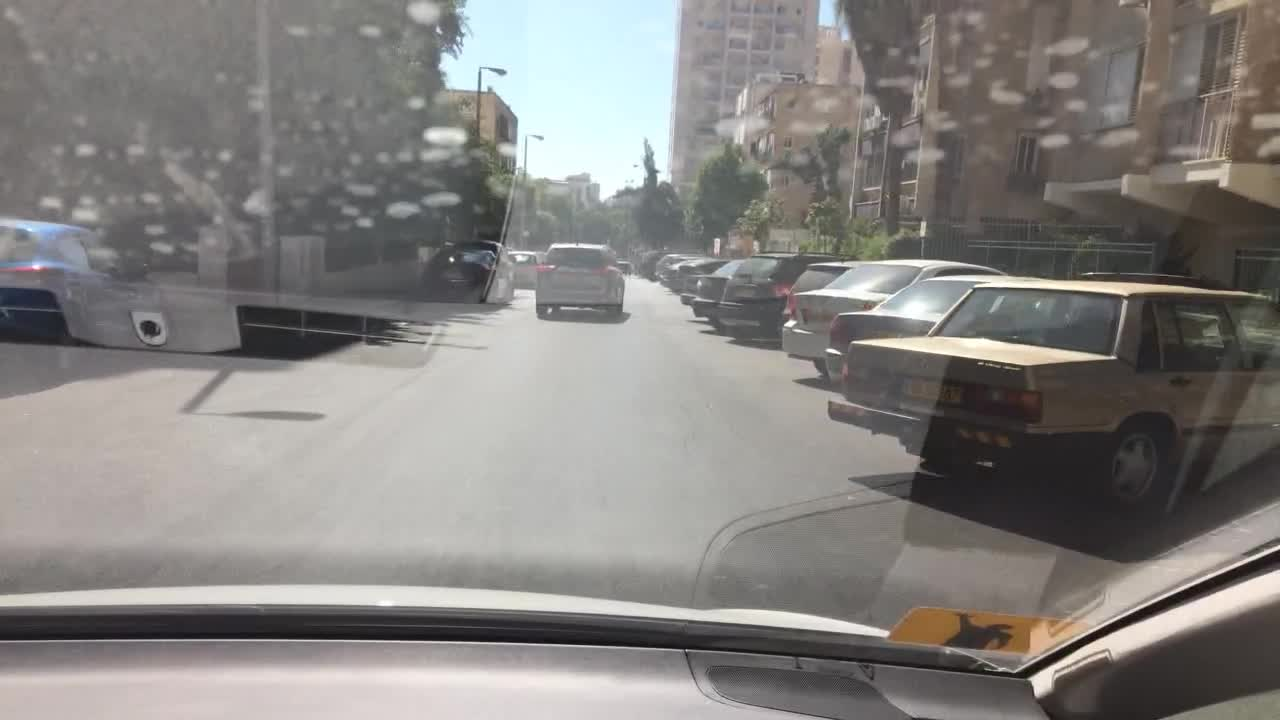car: (825, 275, 1279, 516), (0, 217, 175, 382), (779, 256, 1011, 378), (823, 273, 1034, 388), (712, 253, 859, 341), (773, 258, 869, 334), (535, 239, 624, 317), (417, 246, 498, 305), (459, 233, 518, 297), (690, 256, 746, 320), (678, 261, 734, 305), (666, 256, 719, 293), (651, 251, 695, 285), (504, 250, 540, 288), (633, 250, 665, 280), (612, 256, 633, 275)
